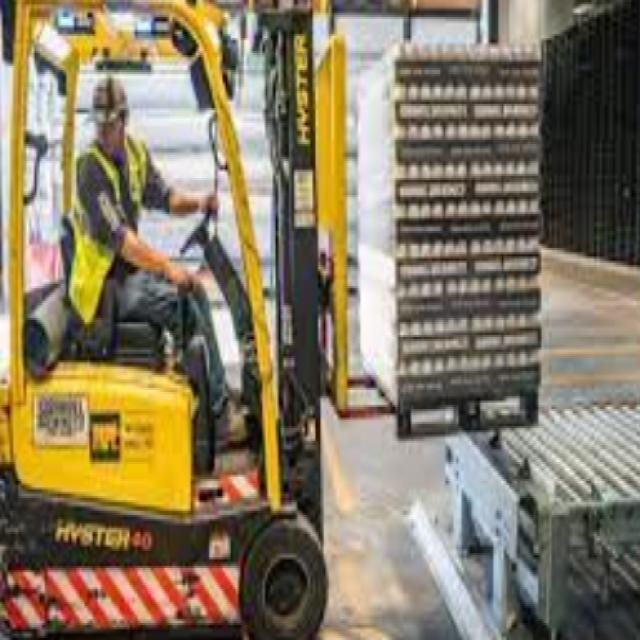boots: (203, 387, 258, 447)
vest: (67, 127, 153, 333)
